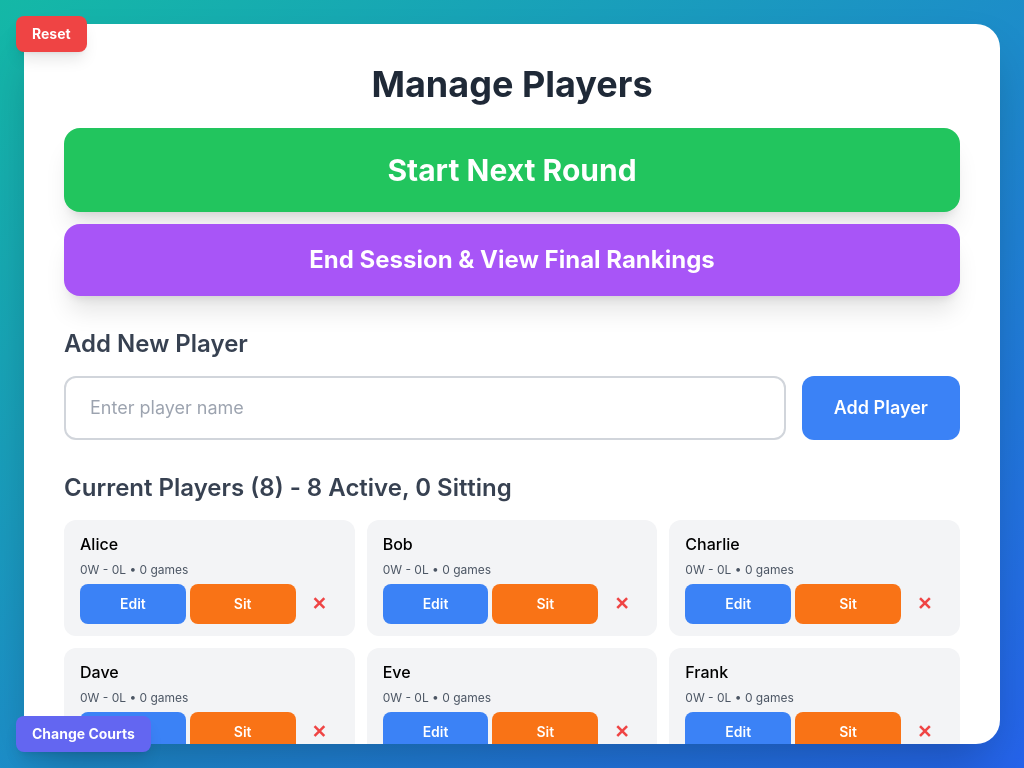
it: PlayerManager › Add Player Form › shows error for duplicate name
Type "Alice" into the field with placeholder "Enter player name" at (425, 408), box [64,376,786,440]
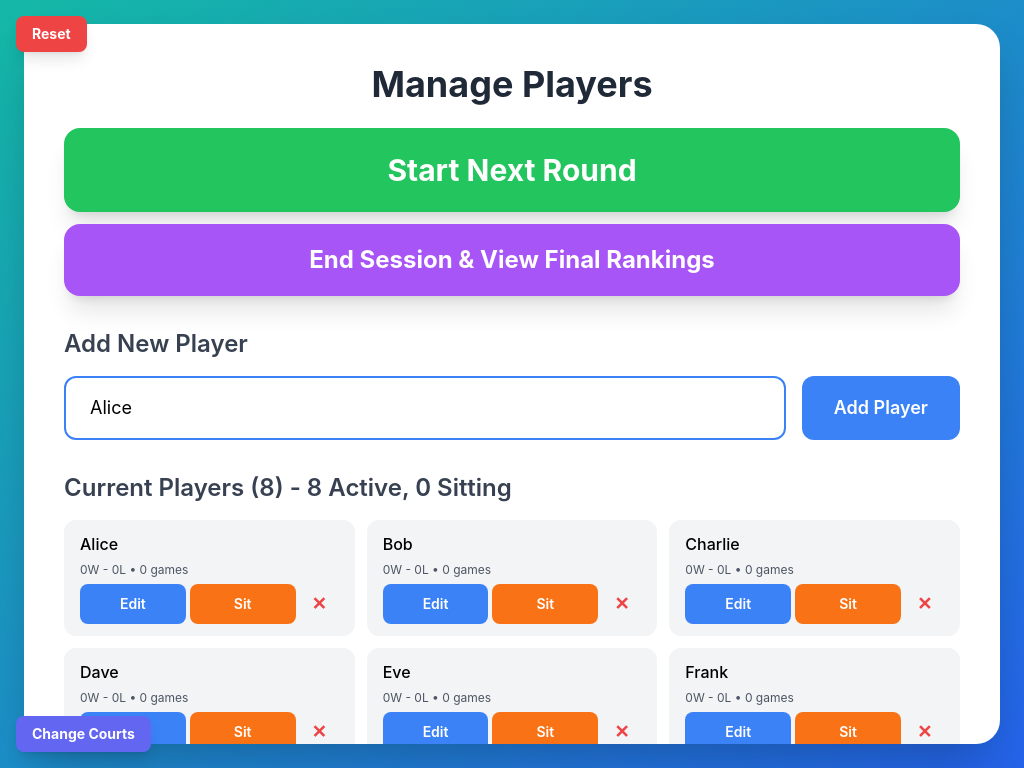
Click the button "Add Player" at (881, 408), box [802,376,960,440]
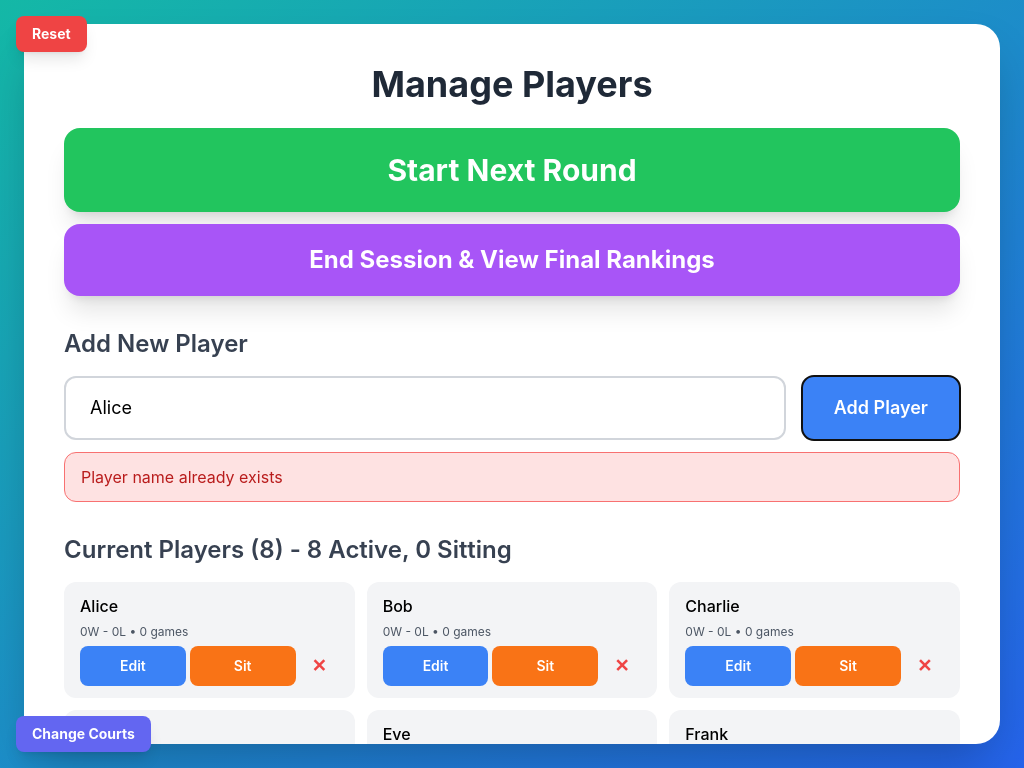
Expected: the text "Player name already exists" is shown, [64,452,960,502]
